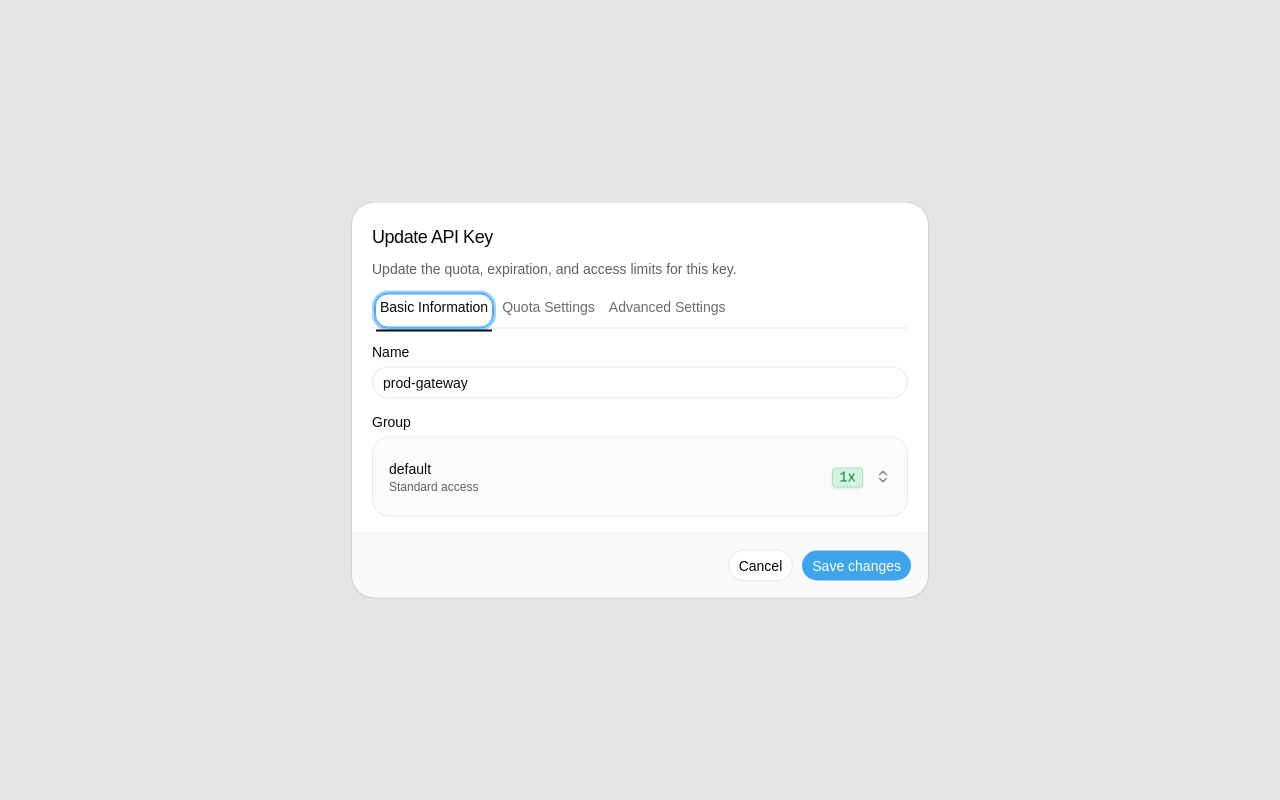
Test case: next API key dialog › hides quantity when editing an existing key
Expected: the heading "Update API Key" is shown, [372,226,493,246]
Expected: the button "Save changes" is enabled, [801,550,912,582]
Click the tab "Quota Settings" at [548, 310], box [497,294,600,328]
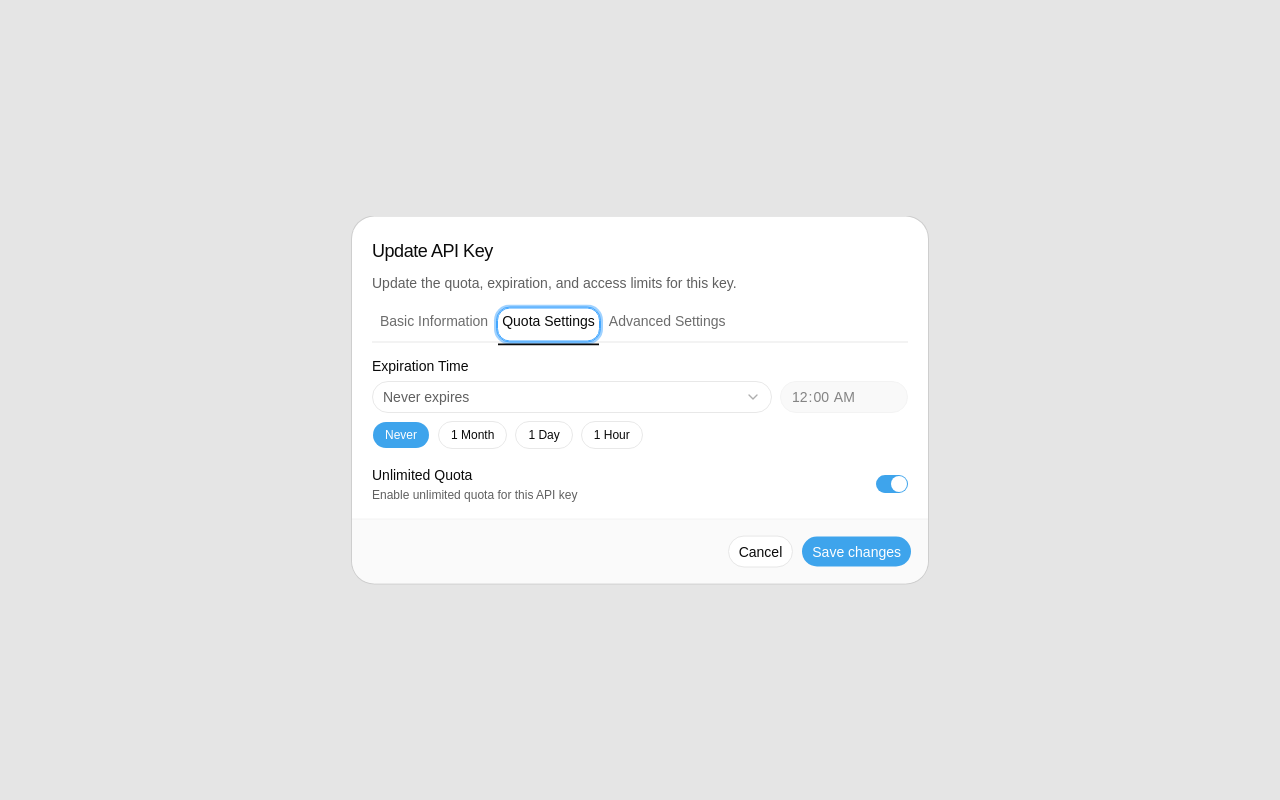
Expected: the button "Never expires" is shown, [372,380,772,412]
